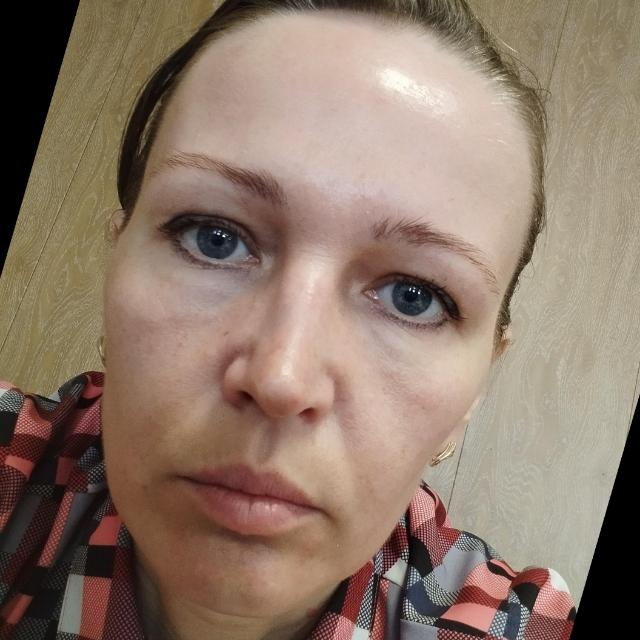Natural: (96, 88, 525, 640)
